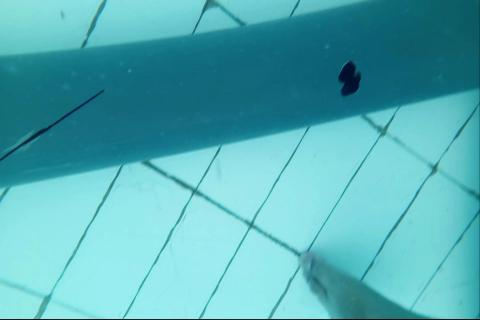kebocoran: (337, 59, 362, 98)
keretakan: (0, 88, 106, 160)
